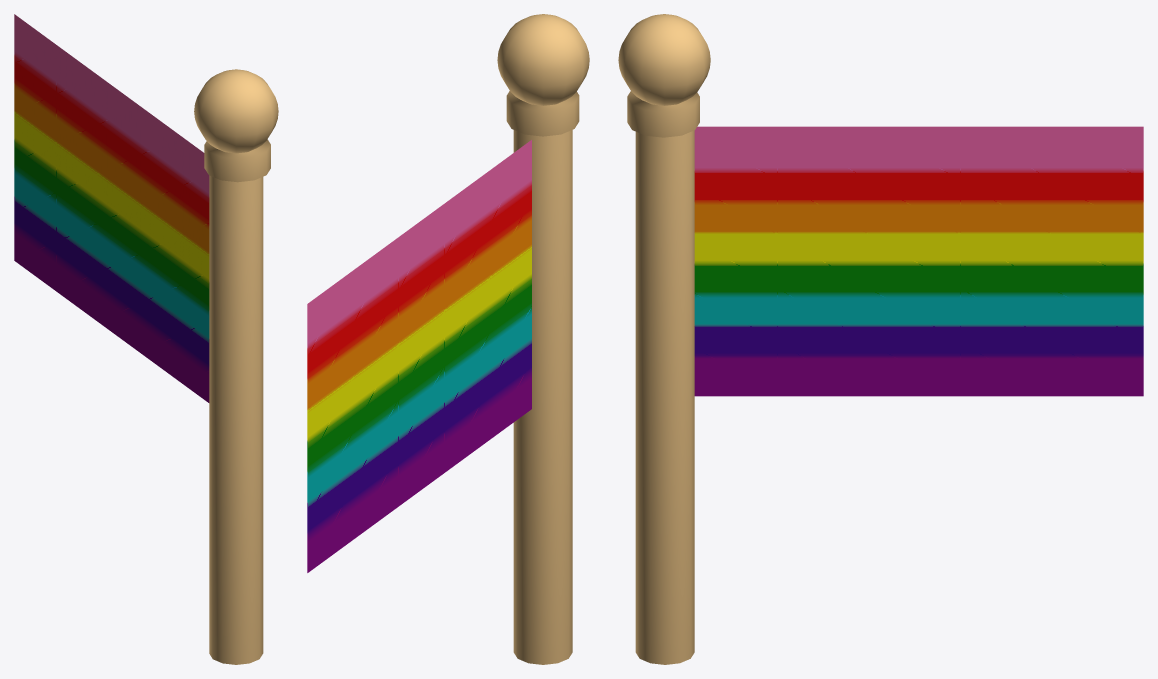
File: retrogay_flag.glb
3 views of the same model, side by side, from view 1: azimuth 30°, elevation 25°; view 2: azimuth 150°, elevation 25°; view 3: azimuth 270°, elevation 25° (orthographic). The views are drawn at different scales.
Visible parts, largest first — view 1: Gay; view 2: Gay; view 3: Gay.
Part boxes in pixels (bbox=[...]): Gay: bbox=[14, 14, 278, 664]; Gay: bbox=[307, 14, 589, 664]; Gay: bbox=[618, 14, 1143, 664].
Bounding box in the file's own units: 0.4603 × 3.49 × 2.62.
2 materials, 1 textured.
